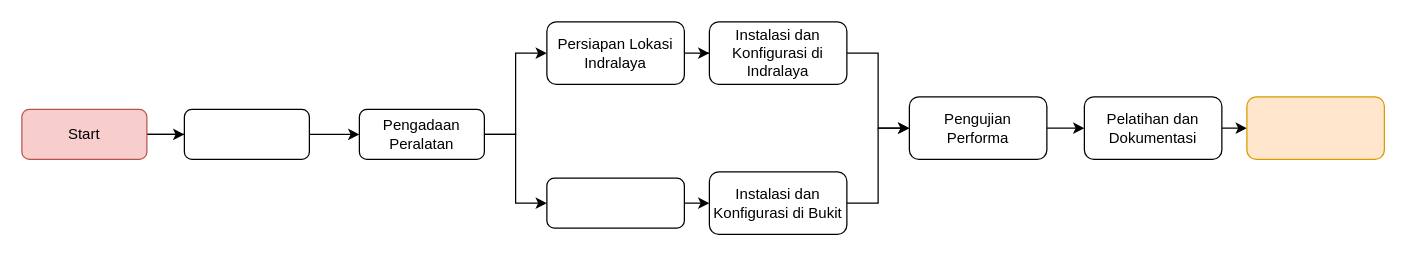
Some shapes in this 1406 by 256 pixel diagram are drawn without their labels. Here are the shapes that lost their labels. From the top down, the centre of each, then its label:
At point (246, 133): "Persiapan".
At point (1315, 127): "Selesai".
At point (615, 202): "Persiapan Lokasi Bukit".
